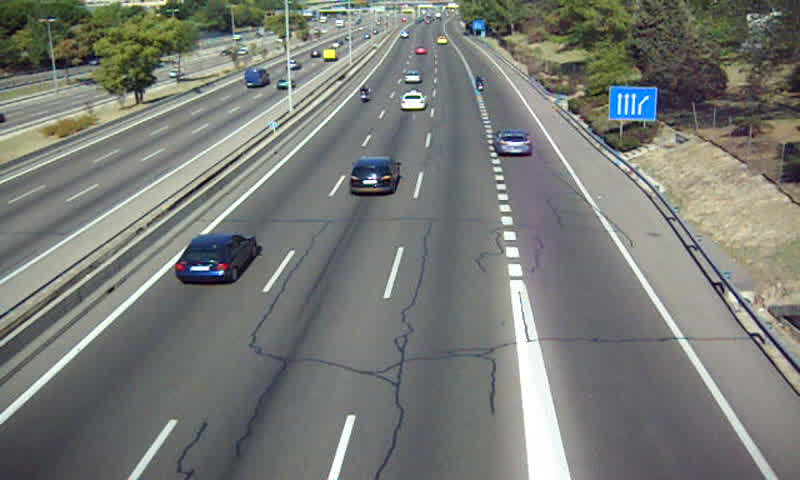car: (173, 234, 256, 287), (348, 156, 401, 192), (492, 128, 533, 157), (400, 91, 426, 111), (403, 69, 421, 84)
motorcycle: (359, 84, 372, 106), (474, 75, 485, 93)
